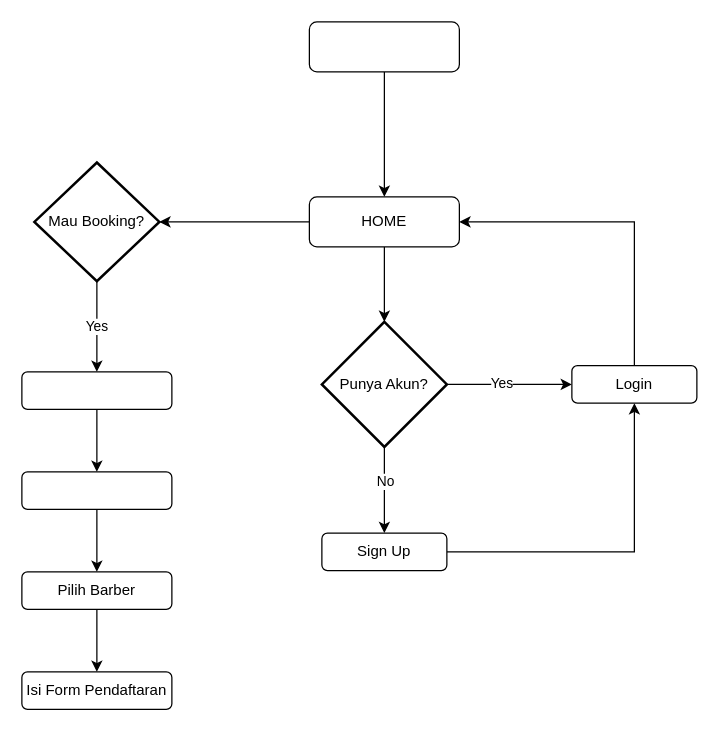
Some shapes in this 719 by 731 pixel diagram are drawn without their labels. Here are the shapes that lost their labels. From the top down, the centre of each, then its label:
[383,46]: Start
[96,390]: Book Page
[96,490]: Pilih Toko
